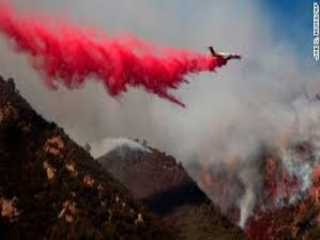fire: (233, 160, 266, 228)
smoke: (100, 133, 155, 157)
